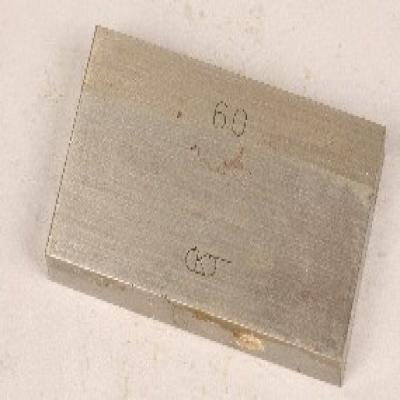technique: (27, 25, 385, 385)
